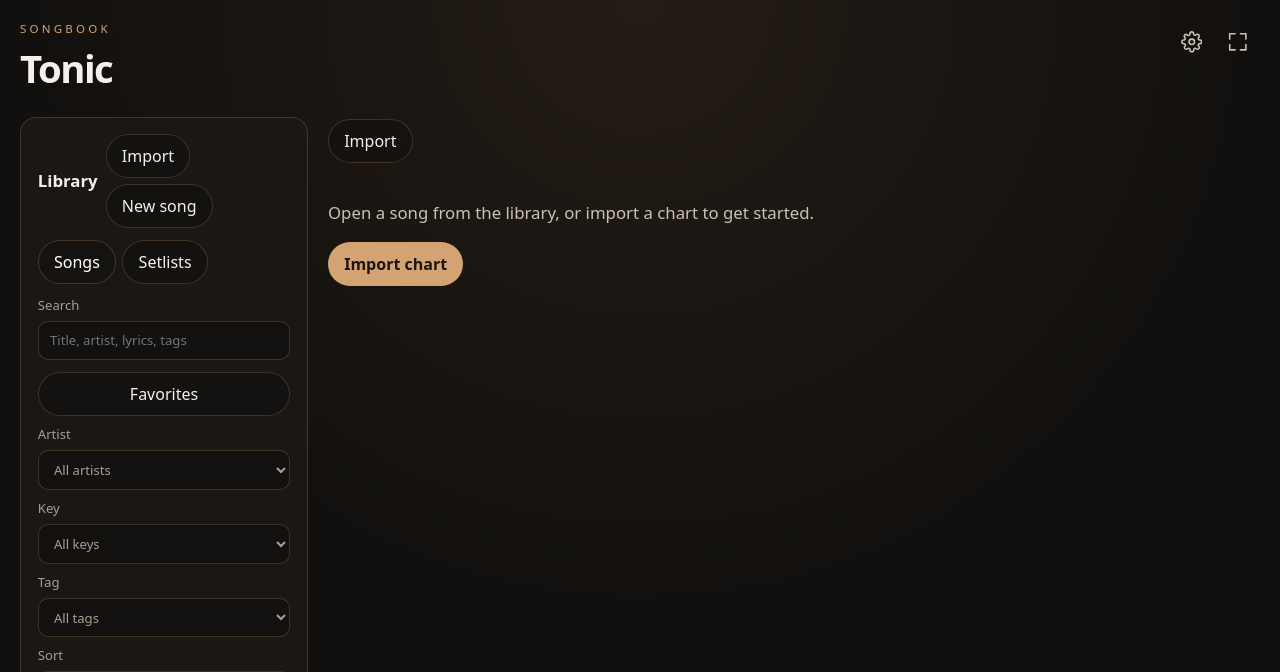
App › opens a setlist entry without copying the song id
The image size is (1280, 672).
Click the tab "Setlists" at (165, 262), box [122,240,208,284]
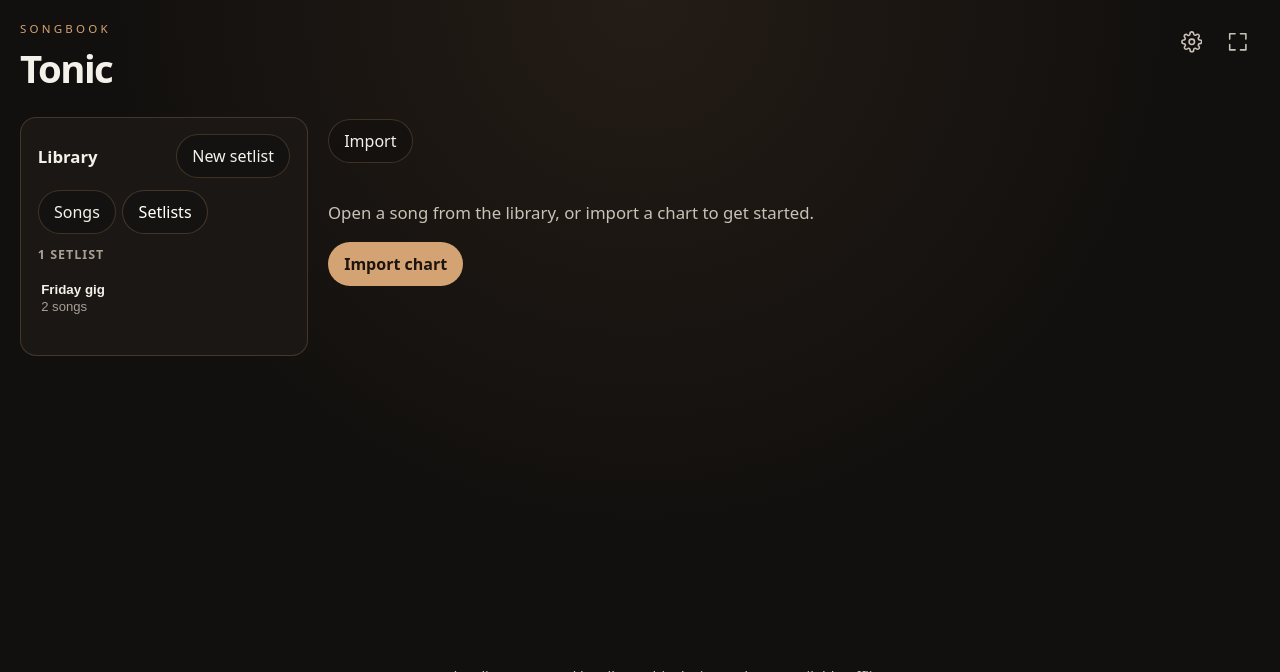
Click the button "Friday gig 2 songs" at (164, 298), box [39,273,289,322]
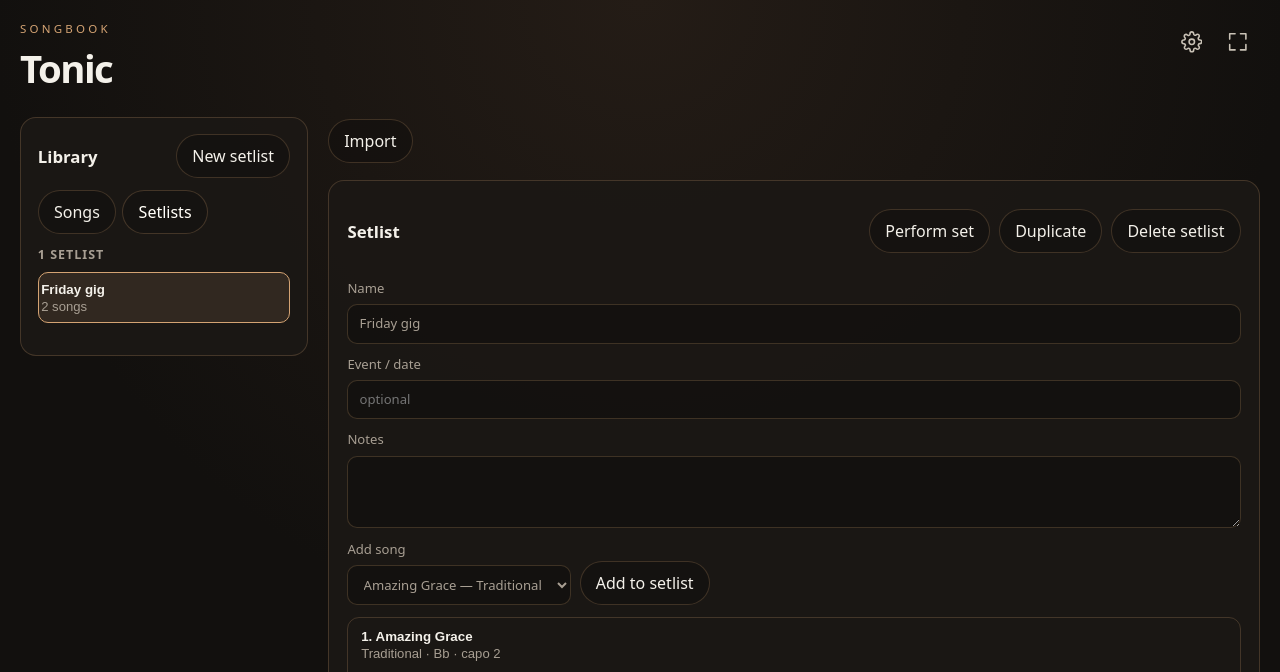
Click the button "1. Amazing Grace Traditional · Bb · capo 2" at (424, 636), box [361,629,1227,661]
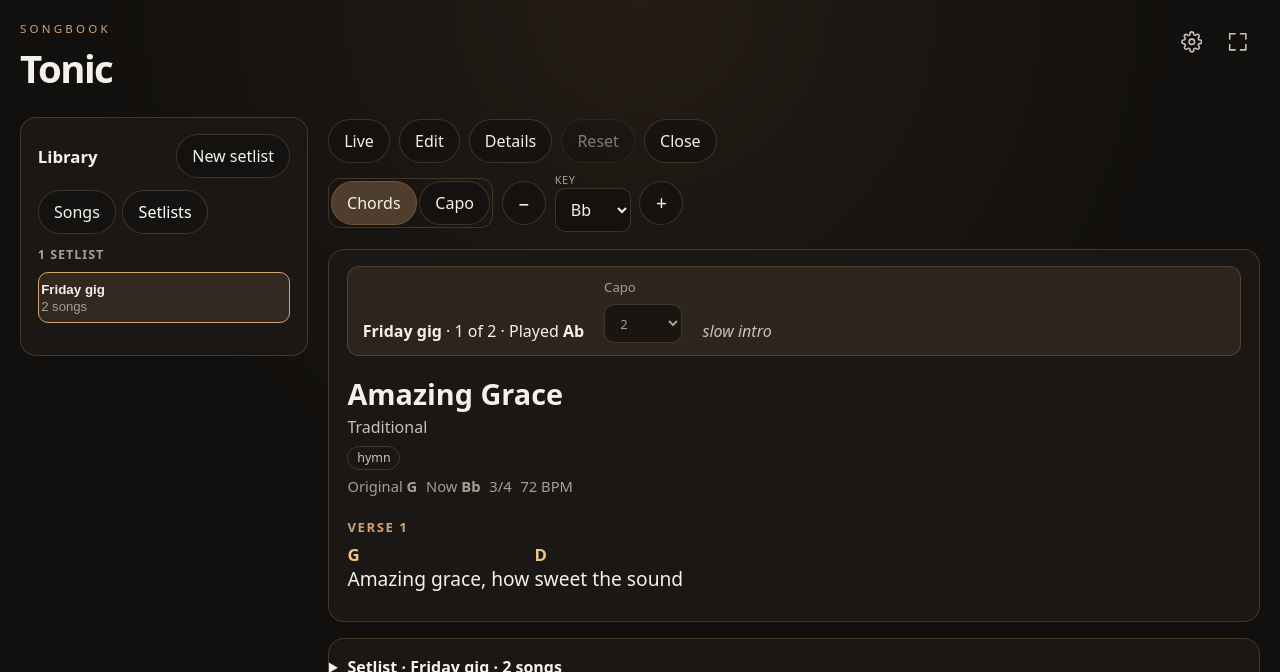
Expected: the element named "Setlist context" shows "Friday gig", [363,320,442,342]
Expected: the text "Friday gig · 1 of 2 · Played Ab" is shown, [363,319,584,343]
